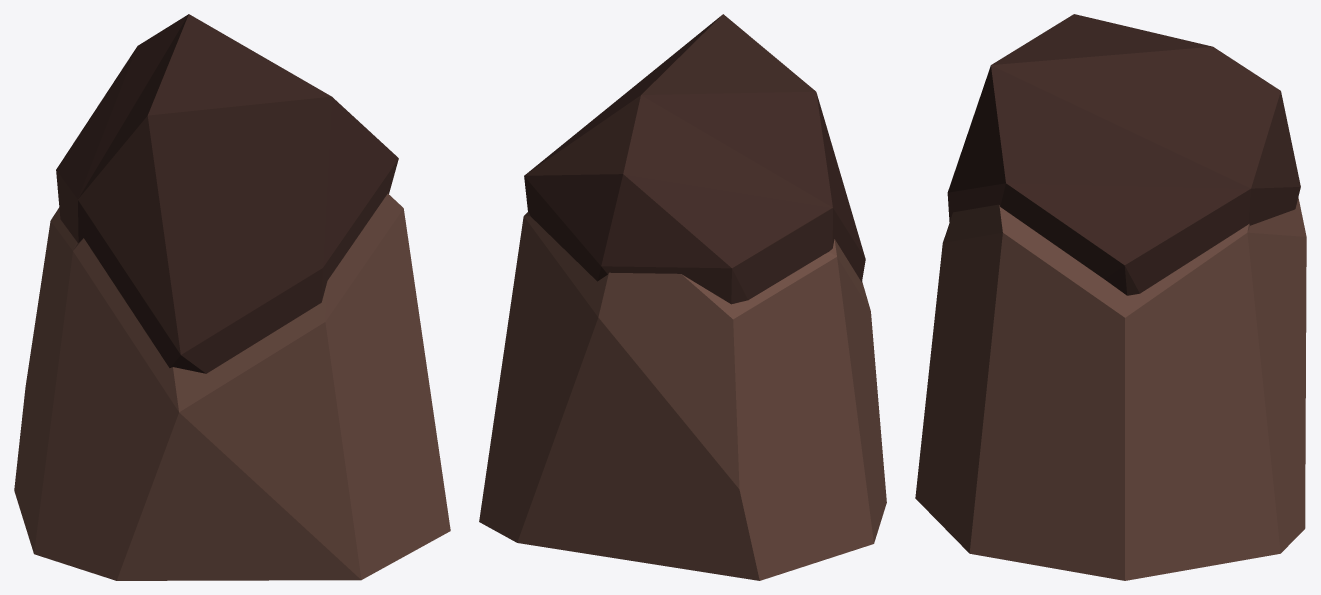
File: Brown_rock_014.fbx
3 views of the same model, side by side, from view 1: azimuth 30°, elevation 25°; view 2: azimuth 150°, elevation 25°; view 3: azimuth 270°, elevation 25° (orthographic). The views are drawn at different scales.
Parts seen in each view (by area): view 1: Brown_rock_014; view 2: Brown_rock_014; view 3: Brown_rock_014.
Part boxes in pixels (bbox=[...]): Brown_rock_014: bbox=[14, 14, 450, 580]; Brown_rock_014: bbox=[479, 14, 886, 580]; Brown_rock_014: bbox=[915, 14, 1306, 580].
Size of the model in its own units: 372 by 331 by 414.
